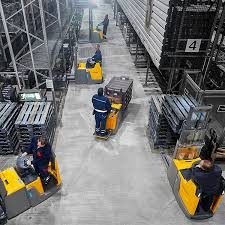Pallet Jack: (158, 104, 225, 222), (93, 86, 125, 141), (66, 57, 105, 85), (78, 9, 110, 43)
